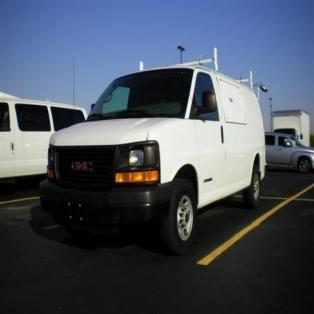Auto: (37, 47, 270, 259)
